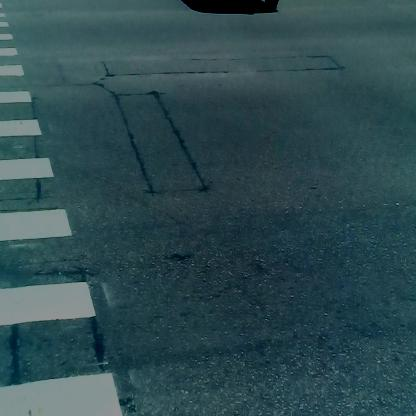crosswalk: (1, 2, 128, 411)
